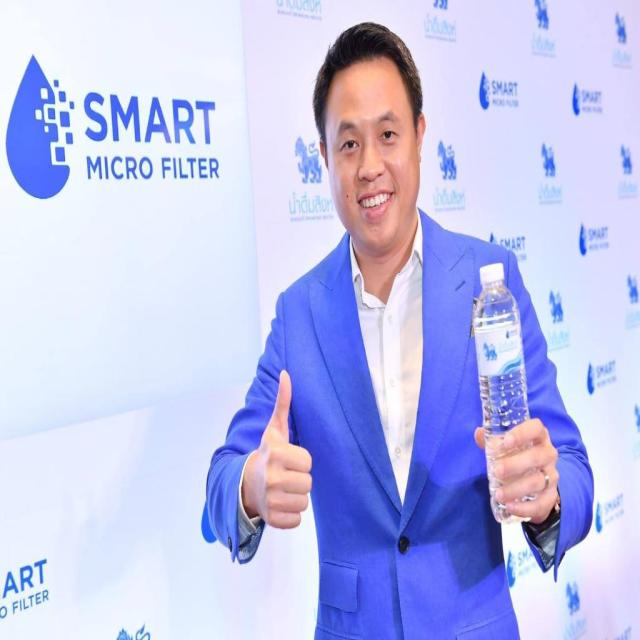bottle: (473, 262, 533, 524)
